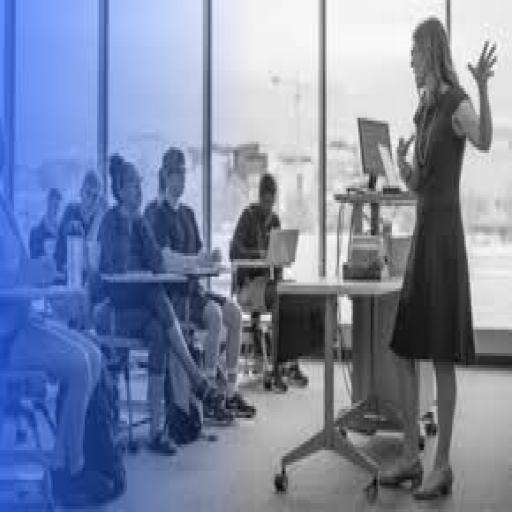sitting: (2, 124, 305, 500)
